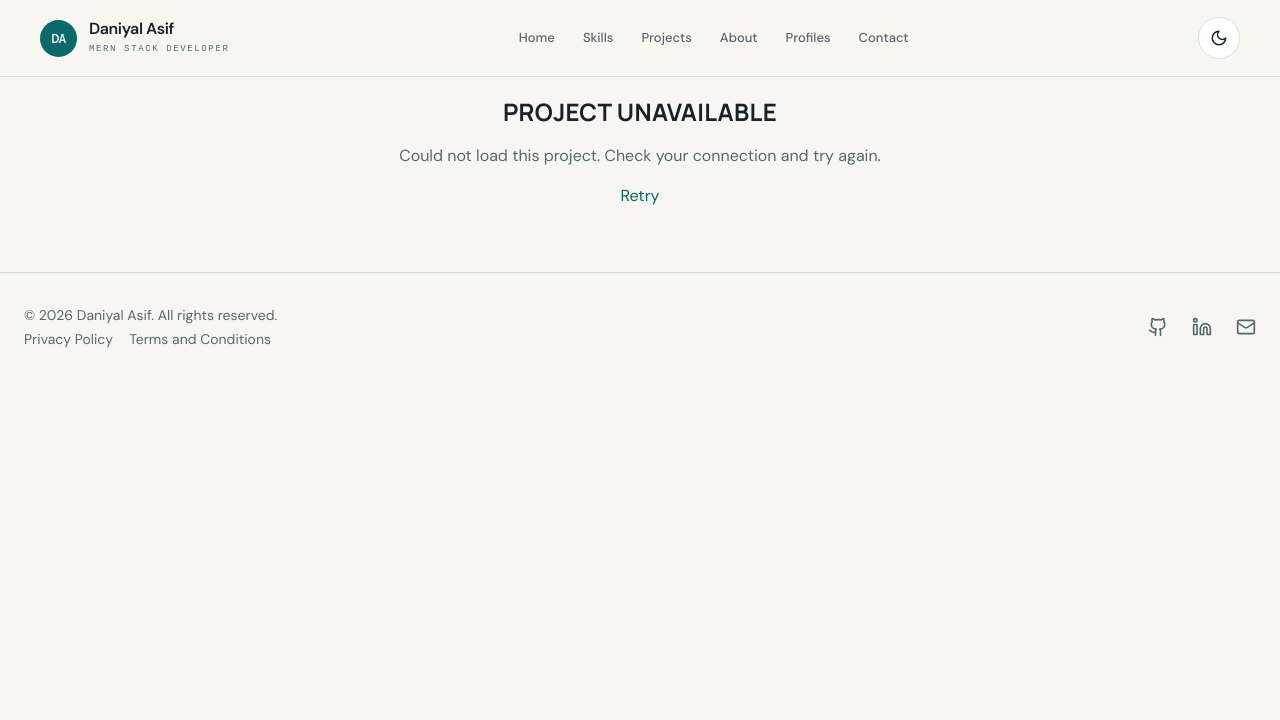
Scenario: ProjectDetail › distinguishes a failed request from an unknown project and lets the visitor retry
The image size is (1280, 720).
Expected: the text "Could not load this project. Check your connection and try again." is shown, [399,144,881,168]
Click the button "Retry". click: x=640, y=196
box: [620,184,659,208]
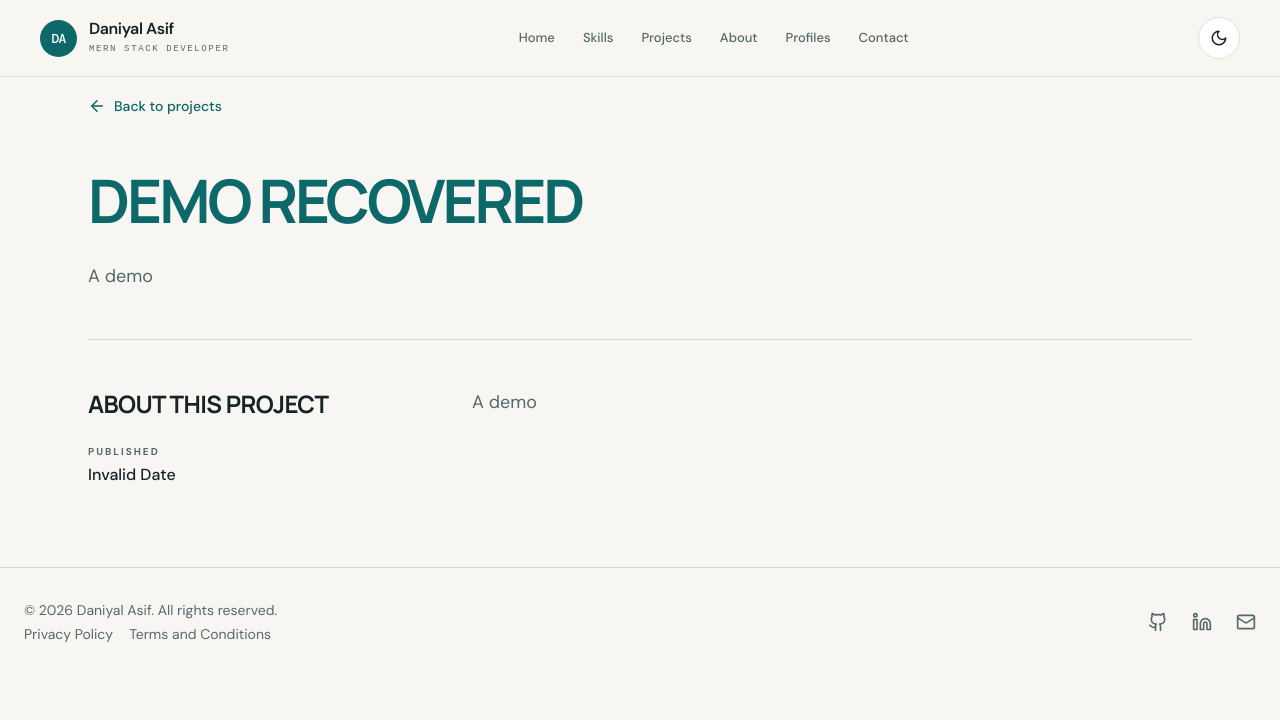
Expected: the heading "Demo recovered" is shown, [88,159,582,241]
